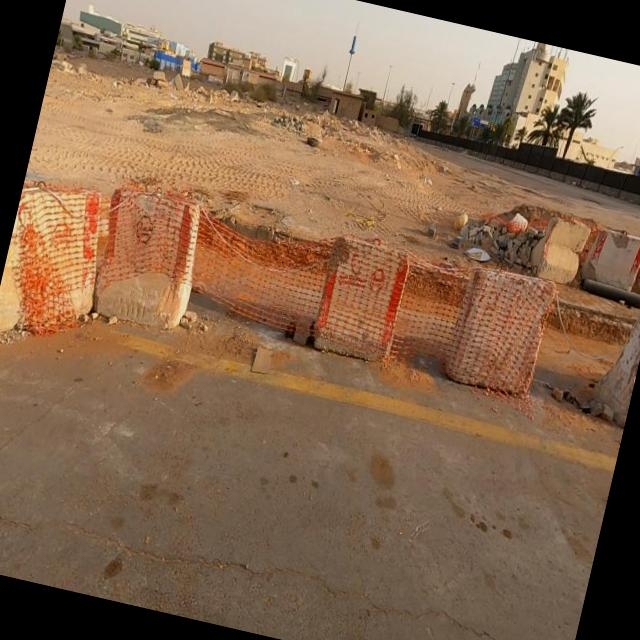debris: (308, 64, 399, 174), (414, 163, 506, 271), (132, 47, 218, 132), (80, 49, 152, 124)
